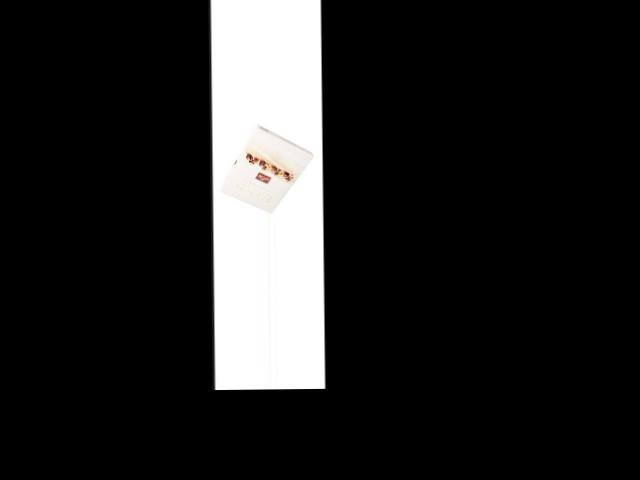chocolate: (219, 122, 321, 212)
